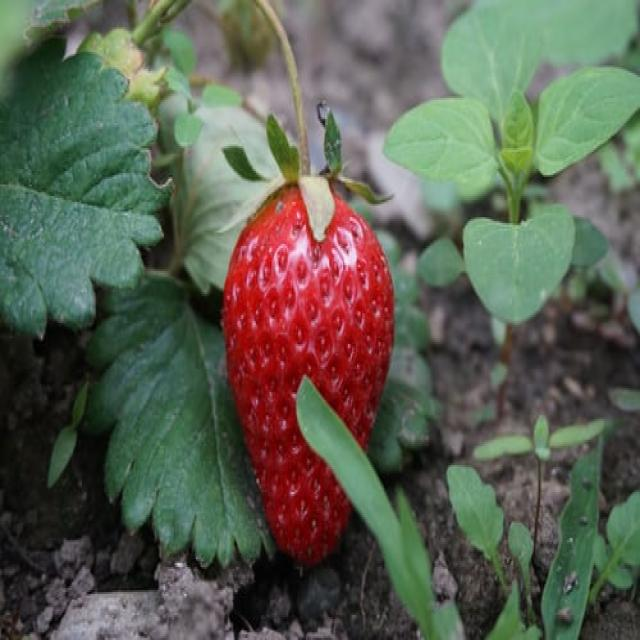mature: (226, 185, 394, 566)
